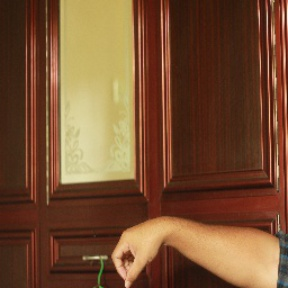O: (112, 220, 165, 280)
